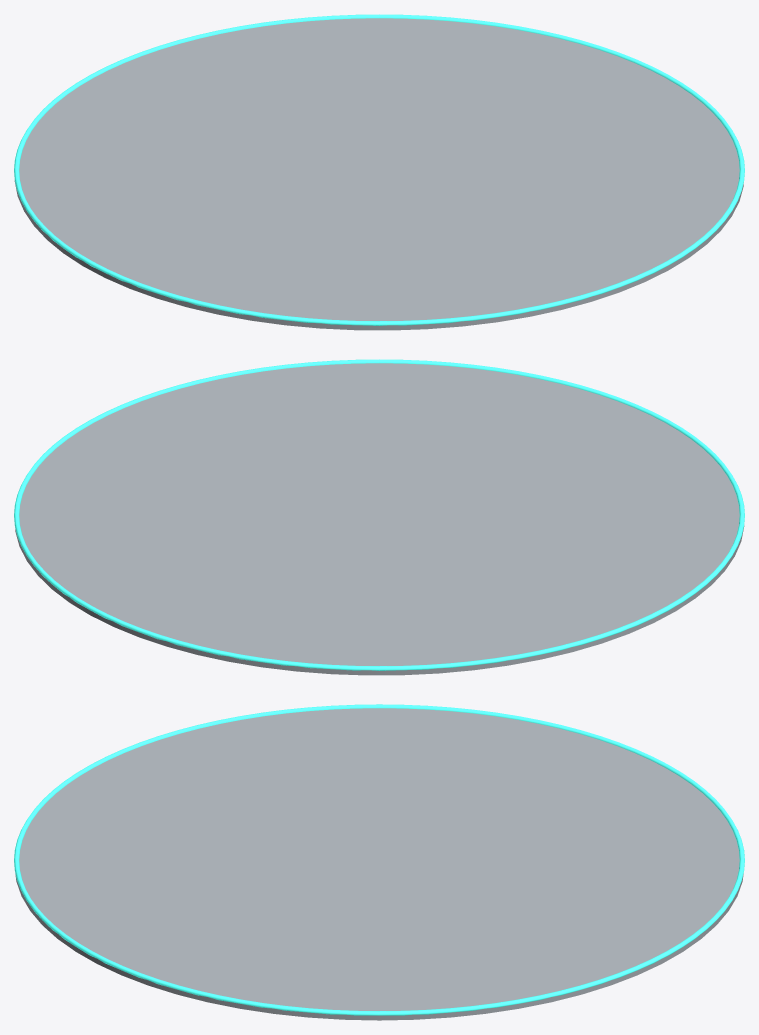
Rendered from studio_platform_v1.glb.
The picture shows the model from 3 angles, top to bottom: view 1: azimuth 30°, elevation 25°; view 2: azimuth 150°, elevation 25°; view 3: azimuth 270°, elevation 25°; orthographic projection.
Visible parts, largest first — view 1: StudioPlatform_Disc, StudioPlatform_Ring; view 2: StudioPlatform_Disc, StudioPlatform_Ring; view 3: StudioPlatform_Disc, StudioPlatform_Ring.
Boxes of the visible parts, <box> form: StudioPlatform_Disc: <box>14,18,743,330</box>; StudioPlatform_Ring: <box>14,14,744,325</box>; StudioPlatform_Disc: <box>15,363,744,675</box>; StudioPlatform_Ring: <box>14,359,744,670</box>; StudioPlatform_Disc: <box>15,708,743,1020</box>; StudioPlatform_Ring: <box>14,704,744,1015</box>.
Size of the model in its own units: 6.81 by 0.0817 by 6.81.
